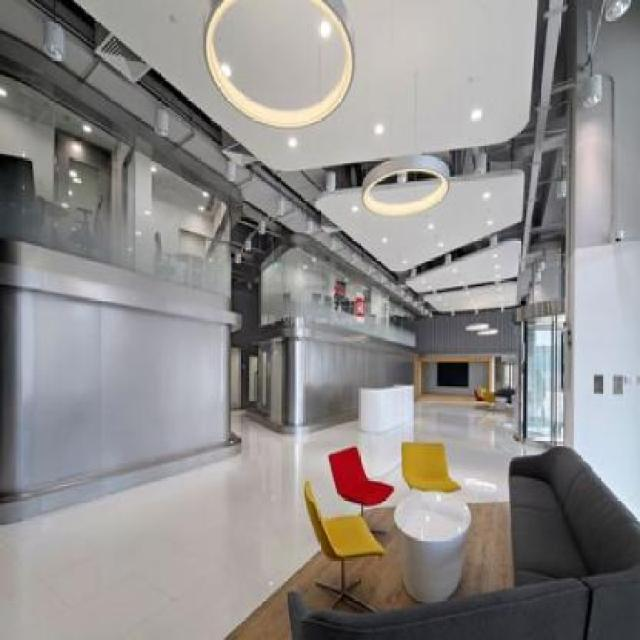frontdesk: (354, 380, 421, 444)
